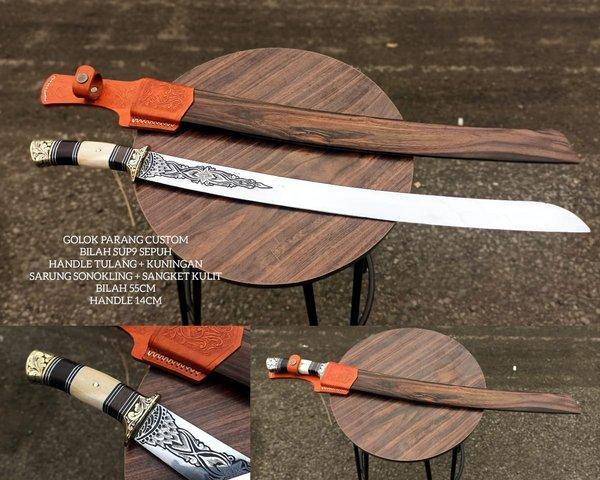facao: (10, 120, 592, 272), (26, 54, 582, 170), (253, 336, 600, 431), (15, 345, 249, 480)
